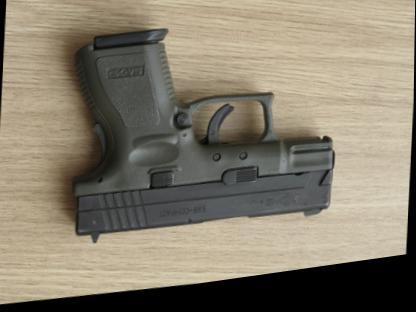pistol: (64, 8, 344, 258)
